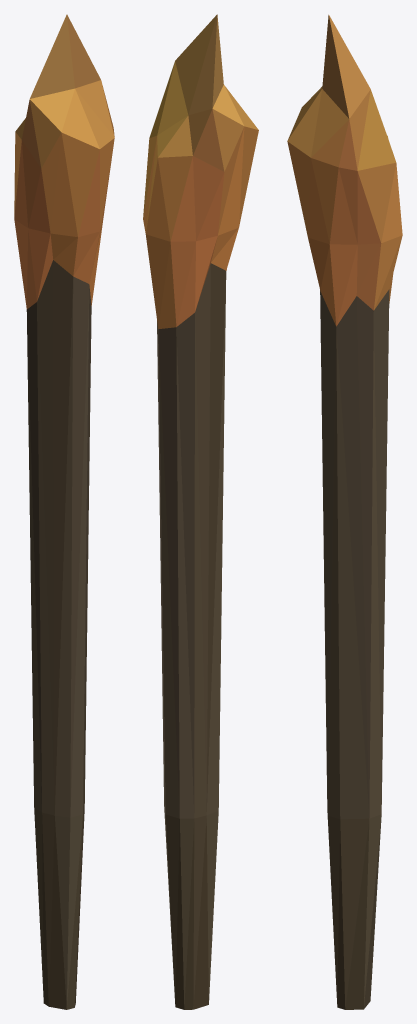
The model's file is Prop-CaveTorchC.fbx.
3 renders of one model, left to right at view 1: azimuth 90°, elevation 25°; view 2: azimuth 150°, elevation 25°; view 3: azimuth 330°, elevation 25°, orthographic.
Parts seen in each view (by area): view 1: Prop-CaveTorchC; view 2: Prop-CaveTorchC; view 3: Prop-CaveTorchC.
Part boxes in pixels (left/top/right/bottom): Prop-CaveTorchC: left=14, top=14, right=114, bottom=1009; Prop-CaveTorchC: left=143, top=14, right=258, bottom=1009; Prop-CaveTorchC: left=287, top=14, right=402, bottom=1009.
Bounding box in the file's own units: 16.91 × 170 × 15.48.
